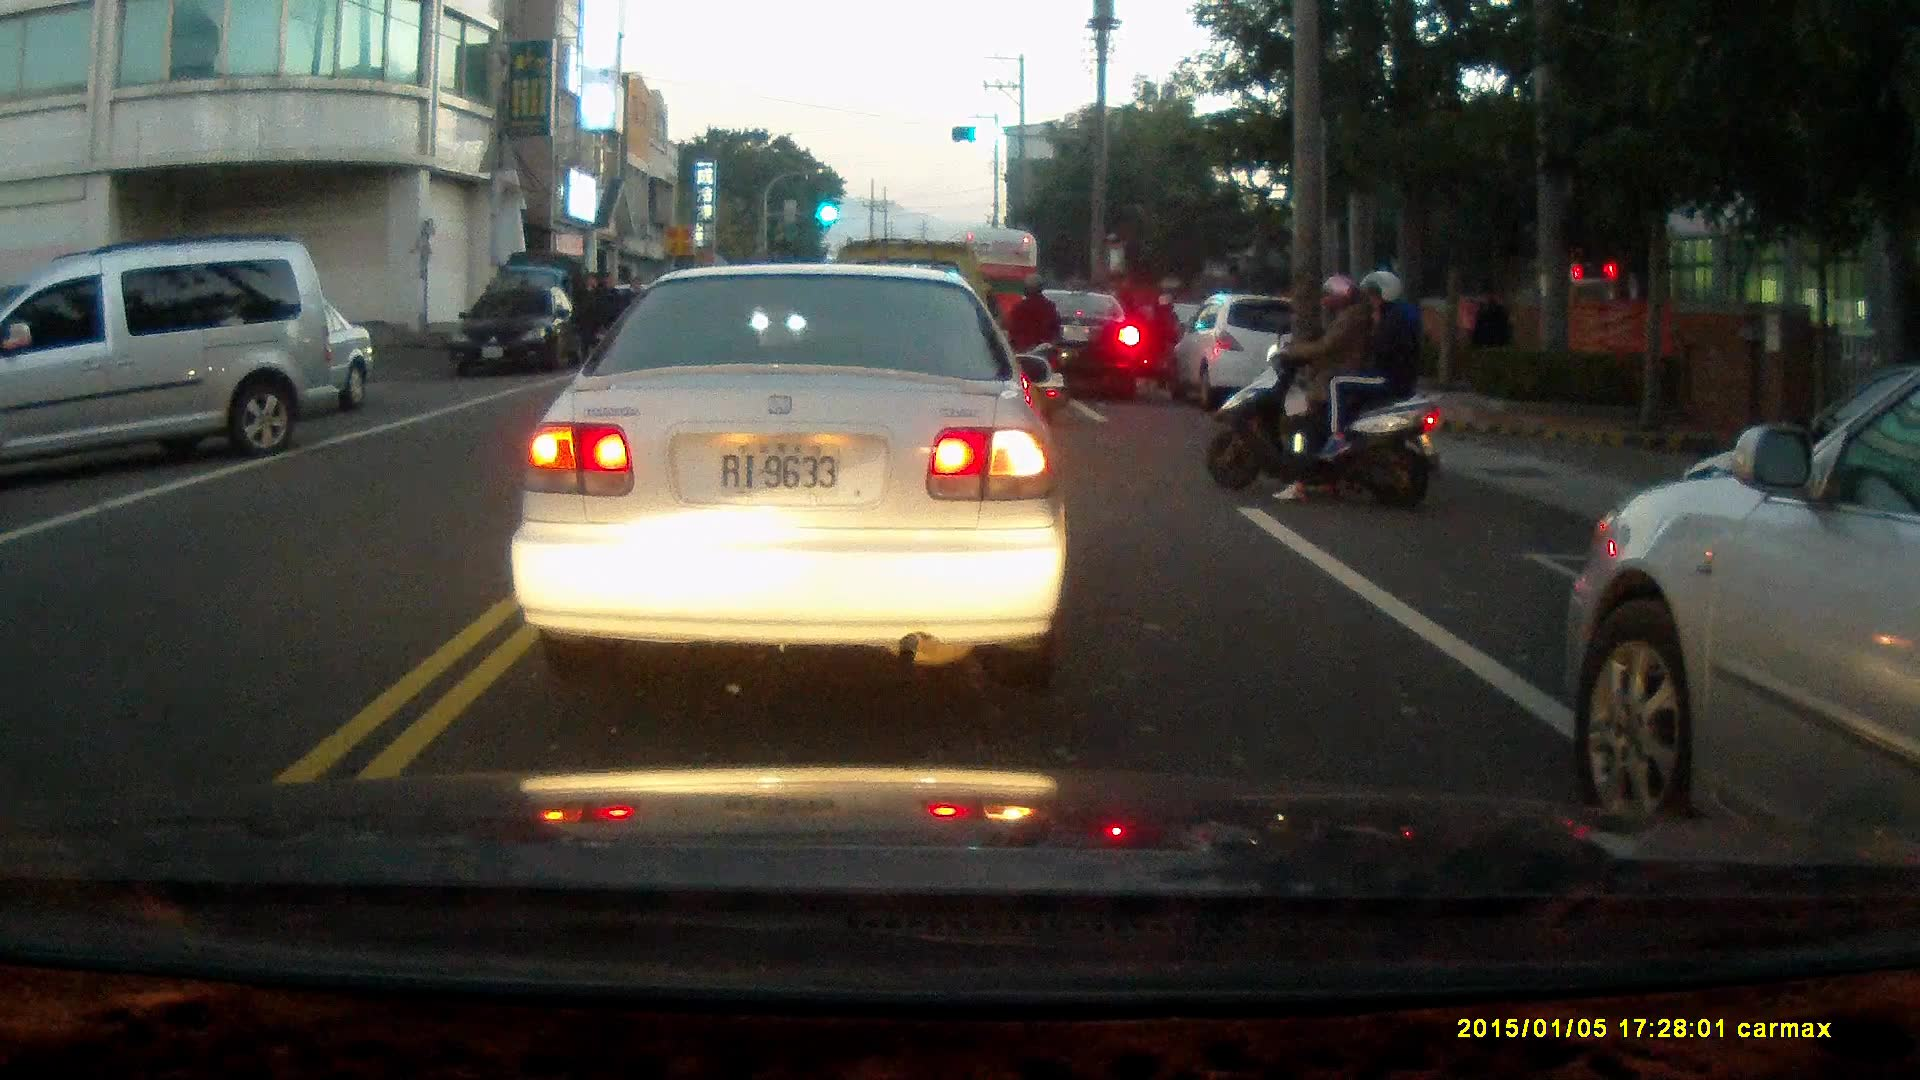pedestrian: (1464, 281, 1510, 381), (568, 271, 604, 371), (586, 273, 617, 374)
rider: (1203, 269, 1444, 516), (995, 269, 1063, 421), (1147, 292, 1184, 390)
vehicle: (510, 259, 1074, 689), (1565, 359, 1919, 852), (1, 243, 340, 481), (1177, 295, 1320, 404), (1007, 289, 1144, 401), (451, 284, 584, 381)
